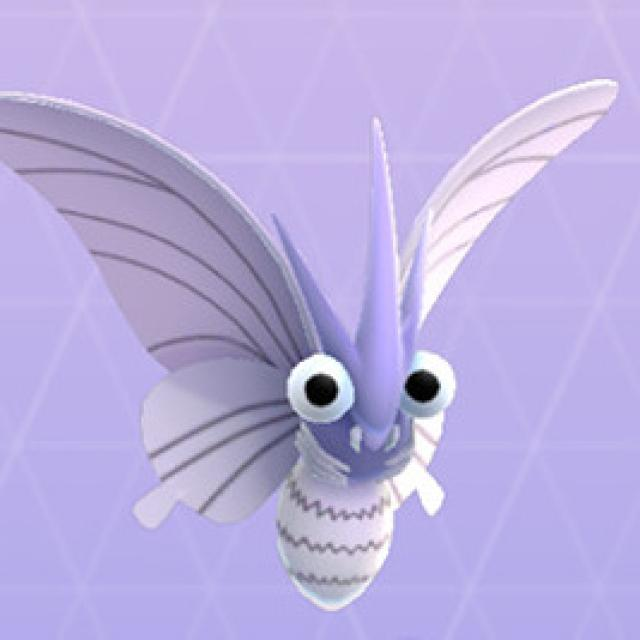Venomoth: (138, 118, 478, 614)
